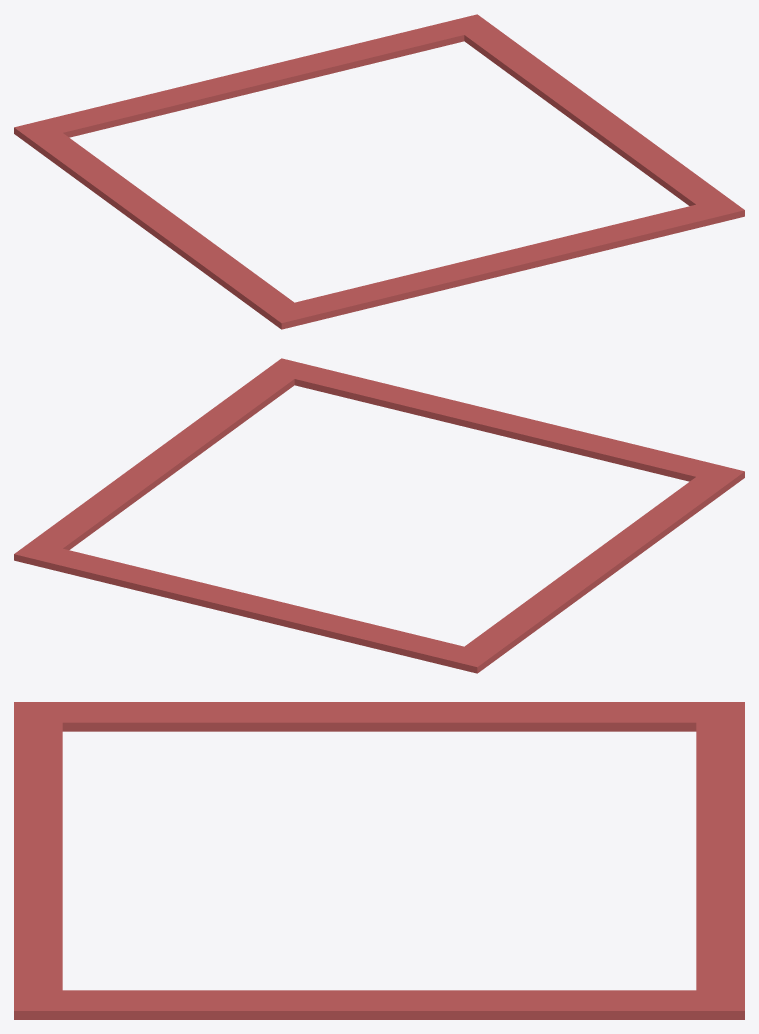
File: prop_seal_empty.glb
3 renders of one model, top to bottom at view 1: azimuth 30°, elevation 25°; view 2: azimuth 150°, elevation 25°; view 3: azimuth 270°, elevation 25°, orthographic. The views are drawn at different scales.
Parts seen in each view (by area): view 1: prop_seal_empty; view 2: prop_seal_empty; view 3: prop_seal_empty.
Boxes of the visible parts, <box> form: prop_seal_empty: <box>14,14,744,329</box>; prop_seal_empty: <box>14,358,744,673</box>; prop_seal_empty: <box>14,702,744,1019</box>.
Bounding box in the file's own units: 0.9 × 0.012 × 0.9.
